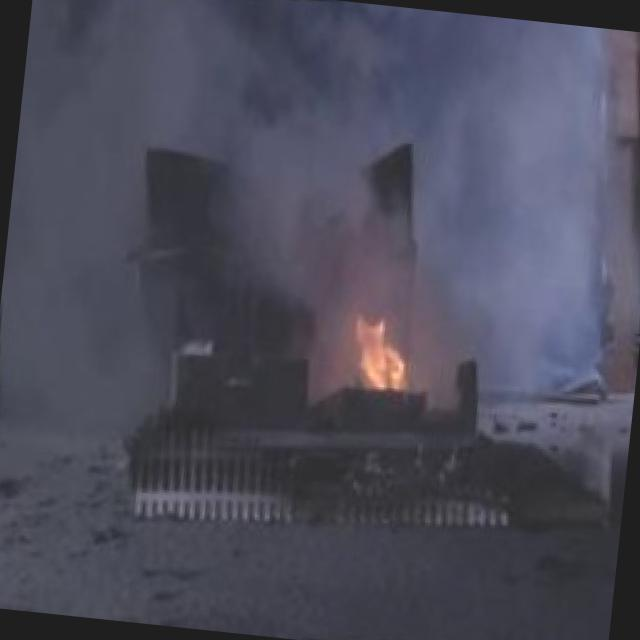fire: (306, 288, 436, 432)
smoke: (7, 0, 626, 338)
